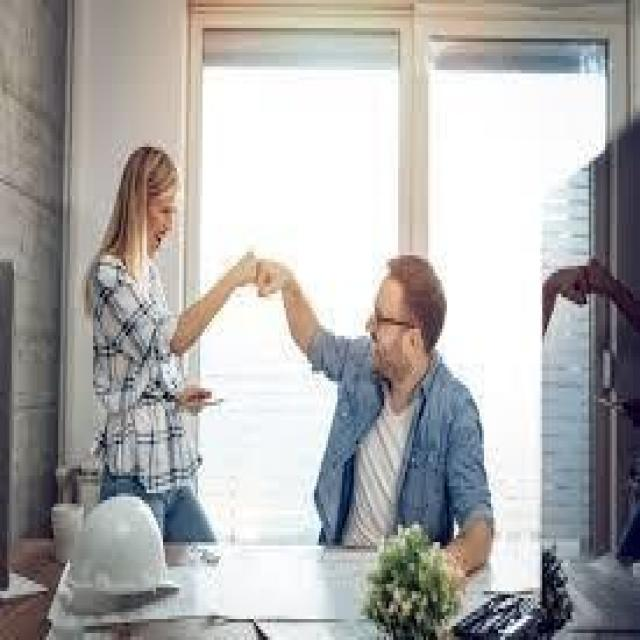person: (258, 122, 514, 616), (65, 122, 256, 535)
